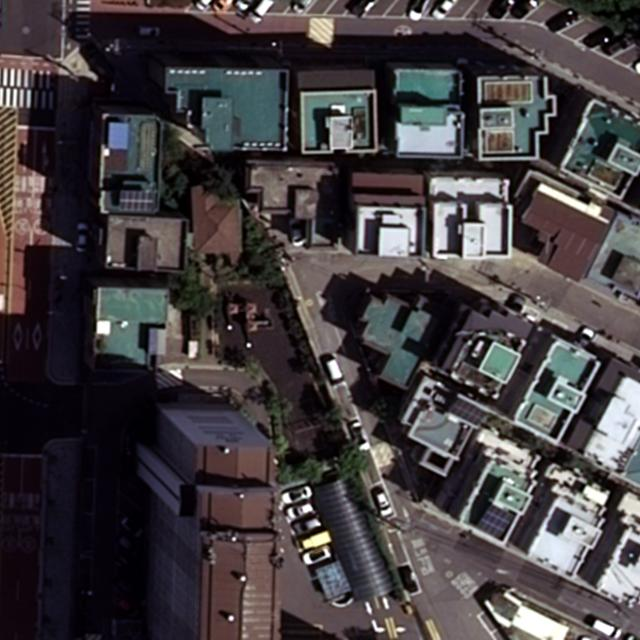panel: (473, 504, 515, 543), (444, 396, 486, 427), (119, 189, 159, 213)
